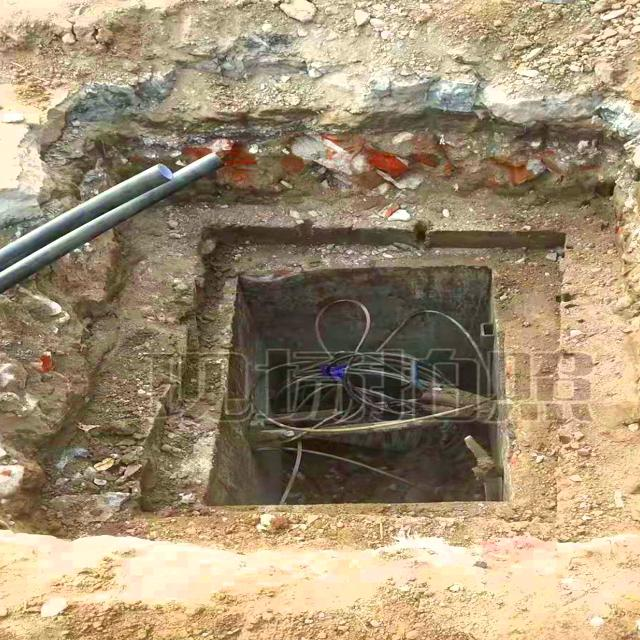lose: (198, 235, 511, 508)
